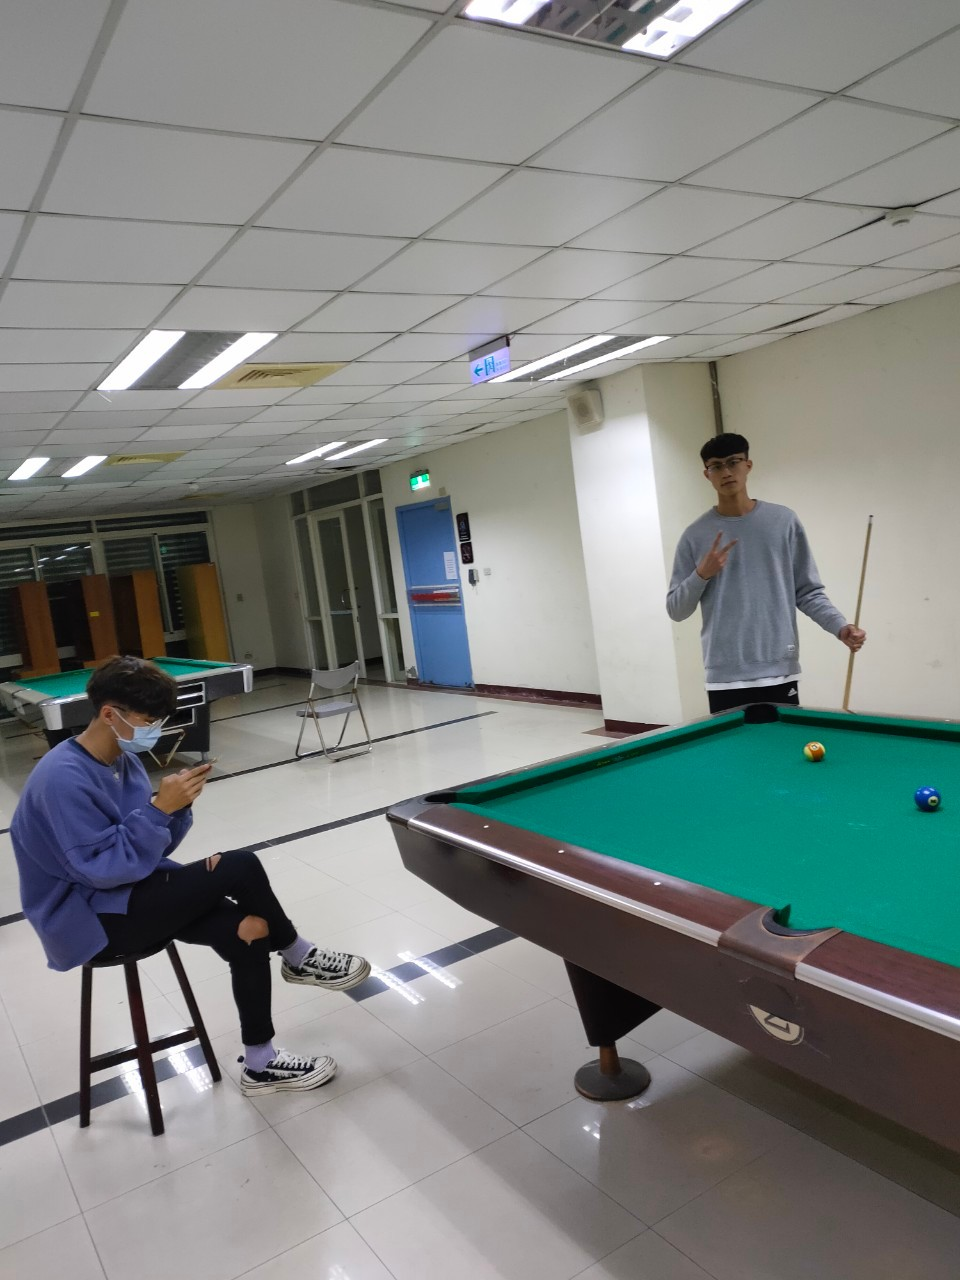people: (25, 651, 330, 1094), (683, 433, 830, 733)
